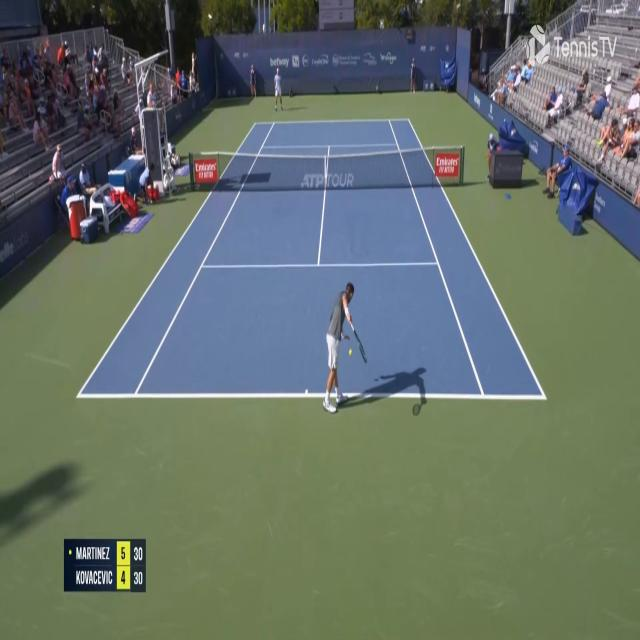tennis-player: (320, 278, 369, 418), (273, 67, 284, 113)
